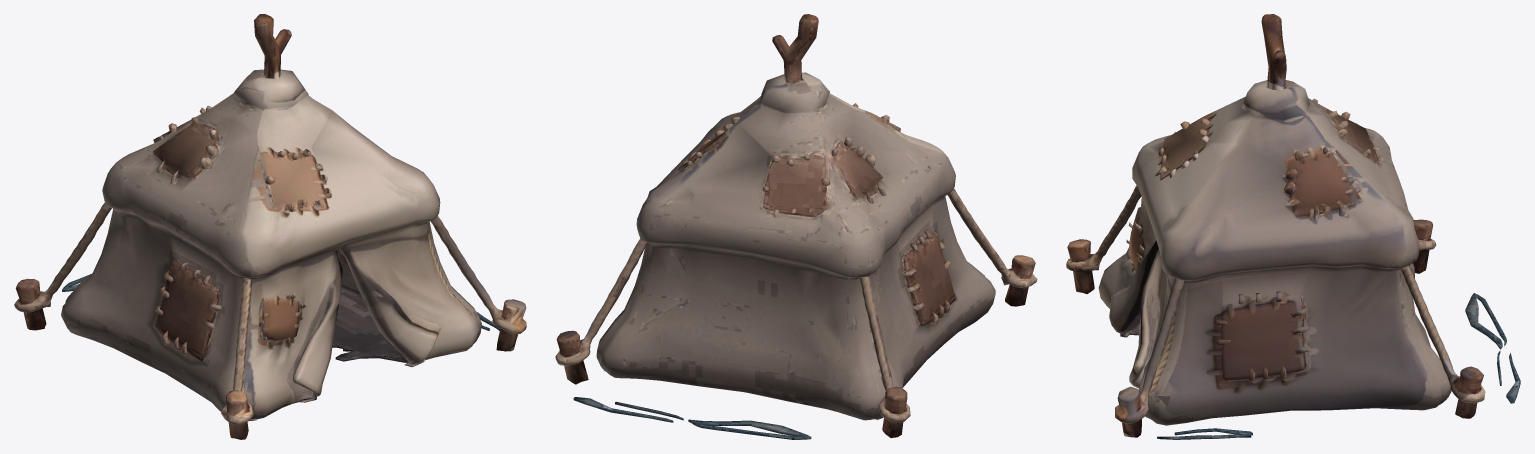
File: tente-jeu-XHNDHU7J.glb
3 views of the same model, side by side, from view 1: azimuth 30°, elevation 25°; view 2: azimuth 150°, elevation 25°; view 3: azimuth 270°, elevation 25° (orthographic). The views are drawn at different scales.
Visible parts, largest first — view 1: tente; view 2: tente; view 3: tente.
Part boxes in pixels (x1,y1,x2,y2): tente: [14, 14, 526, 439]; tente: [555, 14, 1037, 439]; tente: [1066, 14, 1520, 439].
Bounding box in the file's own units: 3.75 × 3.2 × 3.96.
Materials: 1 (1 with a texture image).
